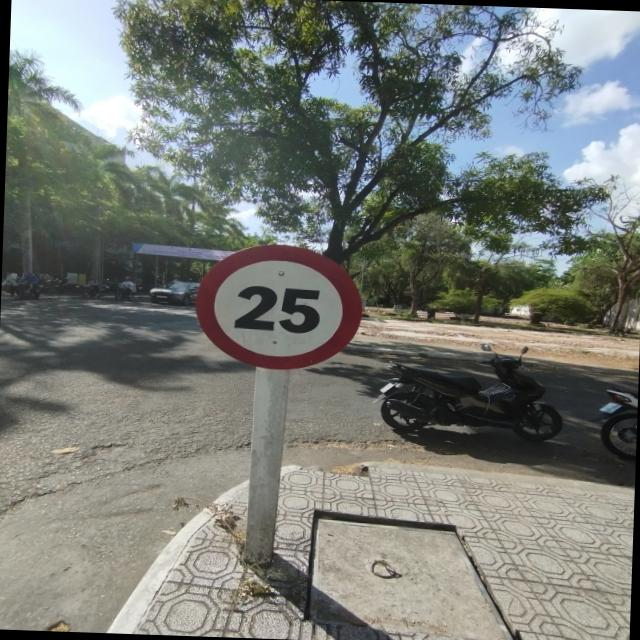Tre_Em: (192, 239, 366, 374)
